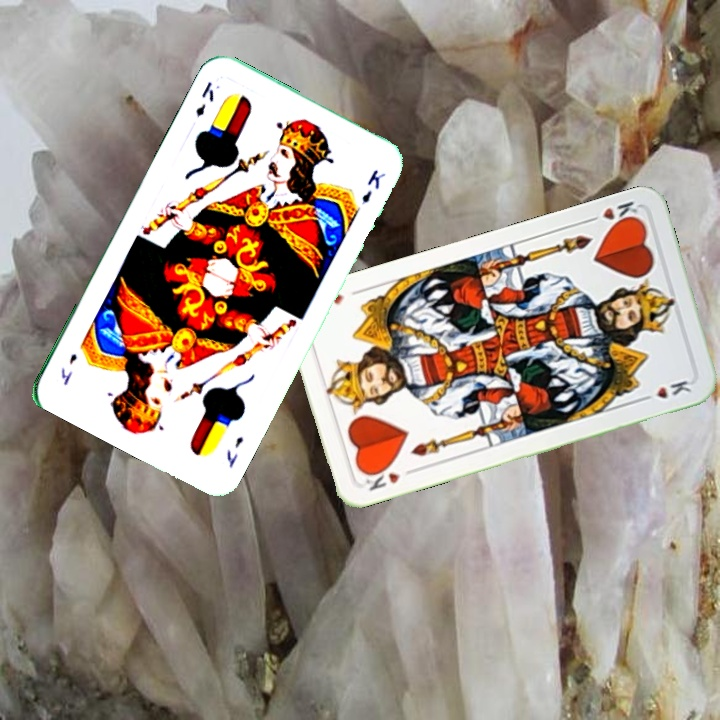EK: (191, 77, 217, 119), (222, 432, 246, 471)
HK: (582, 197, 641, 230), (360, 462, 403, 494)
